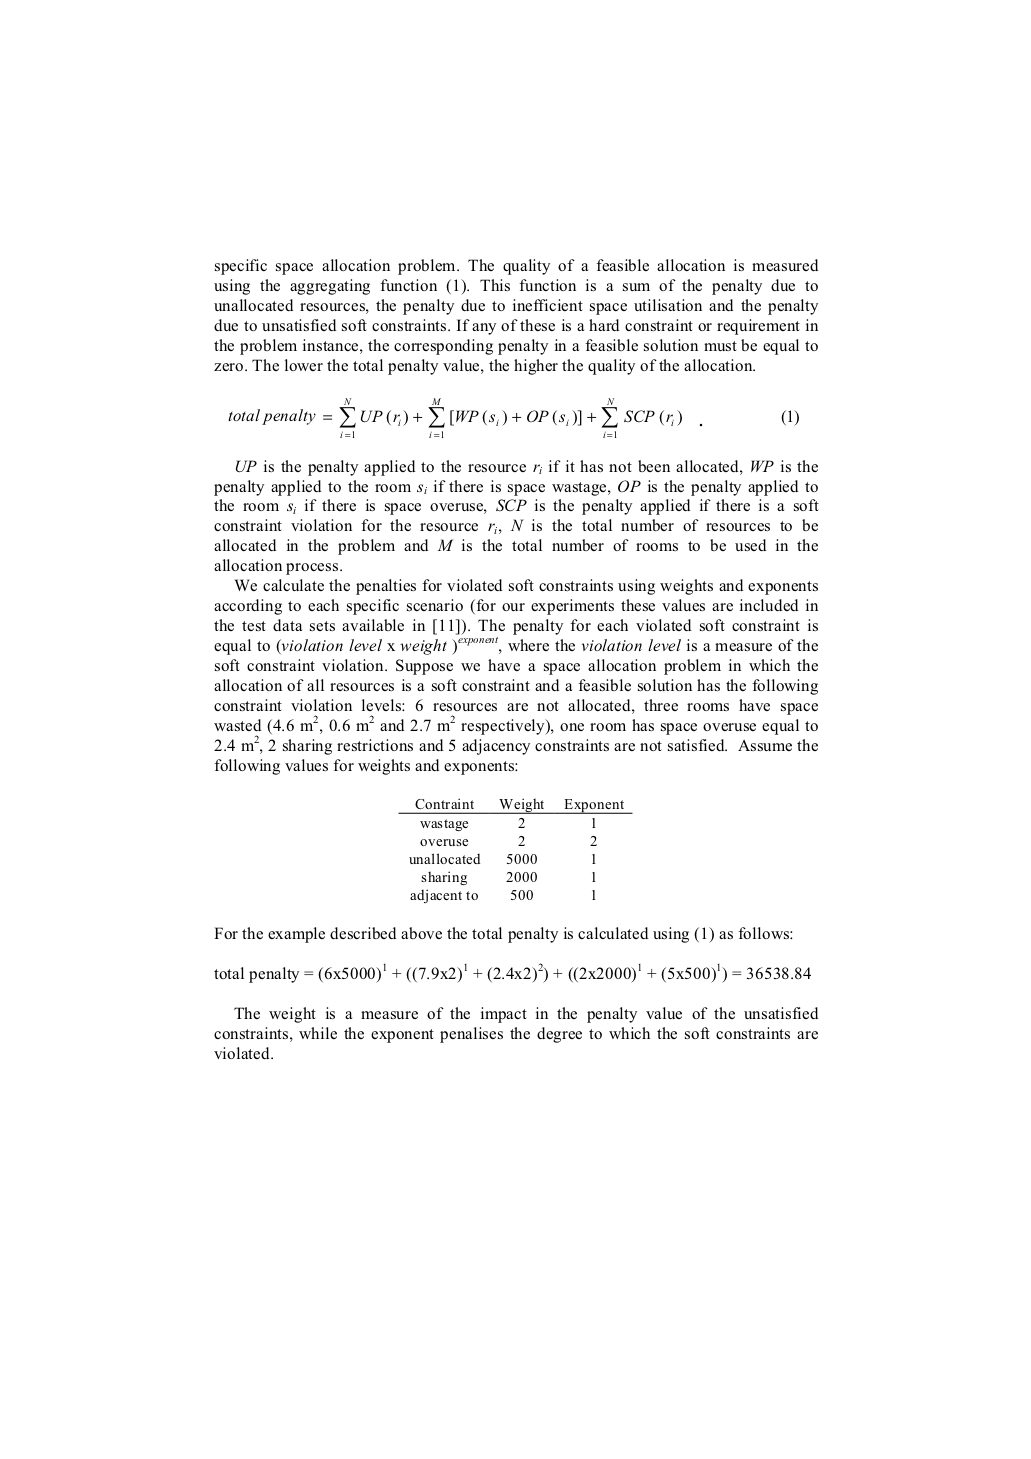Table: (398, 798, 632, 904)
formula: (228, 398, 798, 437), (214, 962, 810, 983)
